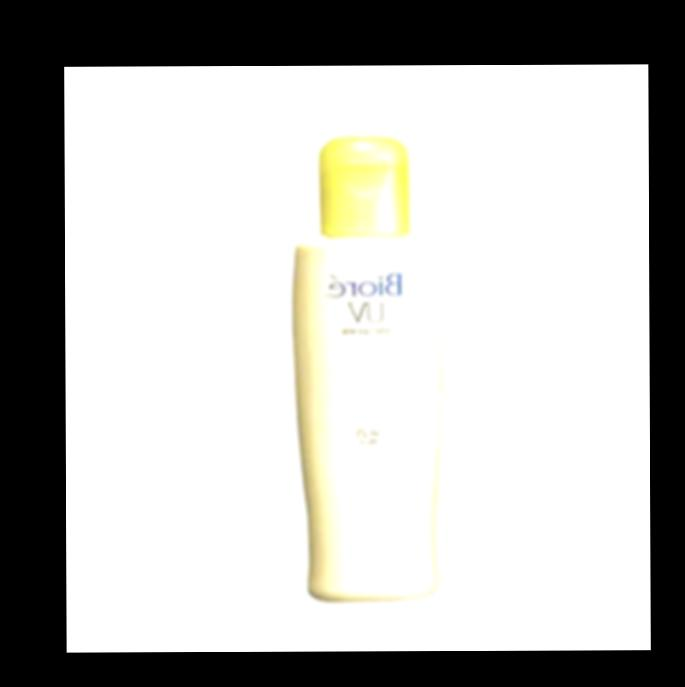cosmetic: (292, 131, 444, 602)
